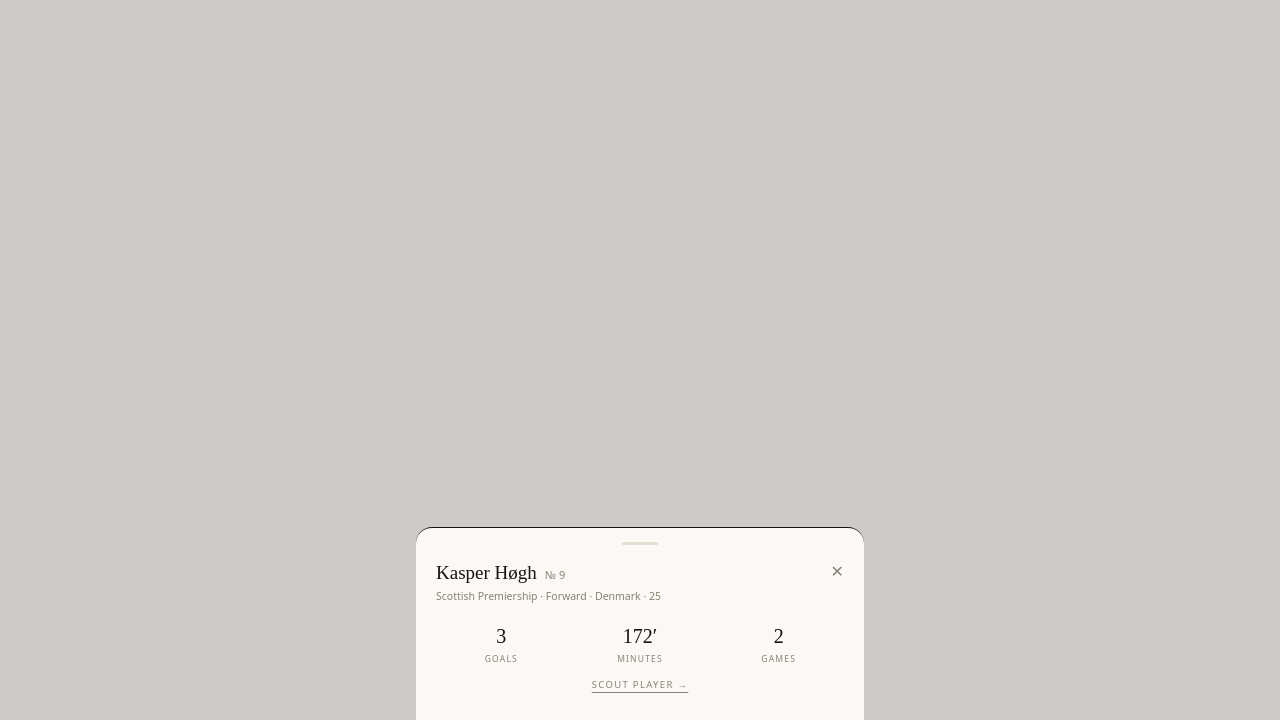
the handle button expands the sheet, revealing the full Splits content
This screenshot has width=1280, height=720.
Check: the text "Attacking" is not shown
Click the button named "Expand profile" at coordinates (640, 543), box top-left (602, 521), bottom-right (678, 565)
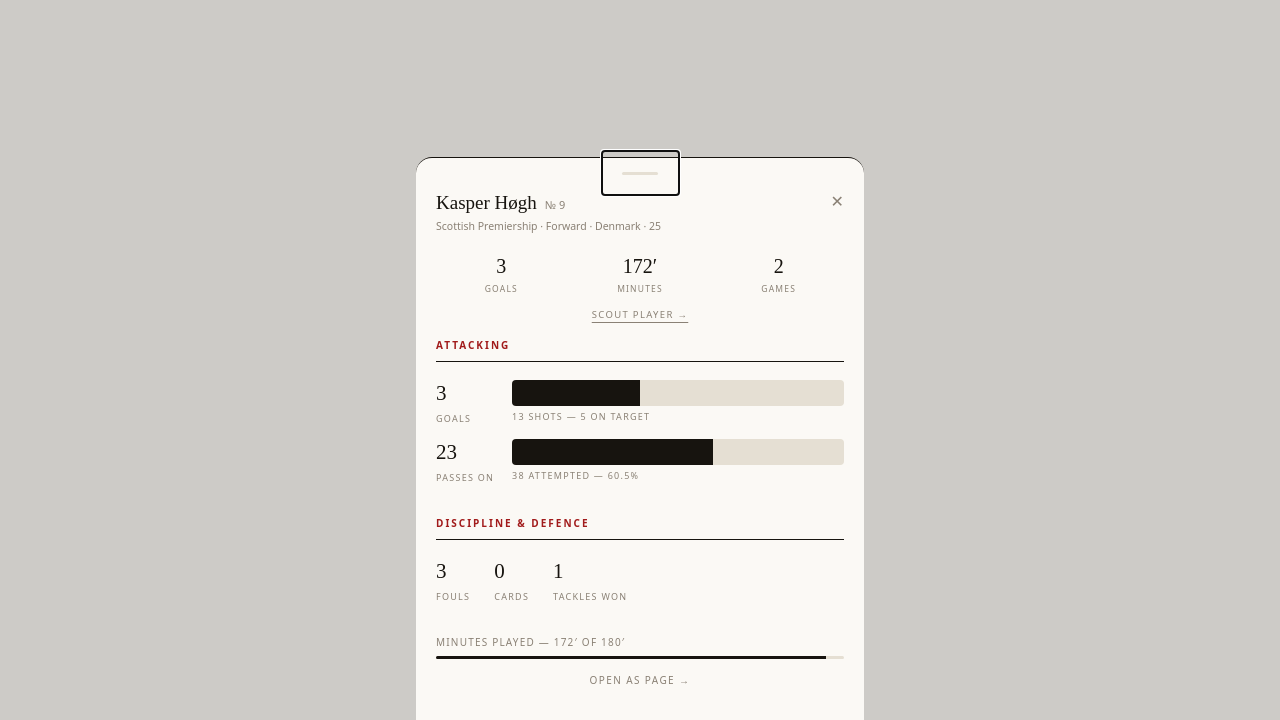
Check: the heading "Attacking" is shown, box top-left (436, 338), bottom-right (844, 362)
Check: the text "13 shots — 5 on target" is shown, box top-left (512, 410), bottom-right (650, 423)
Check: the button named "Collapse" is shown, box top-left (602, 151), bottom-right (678, 195)
